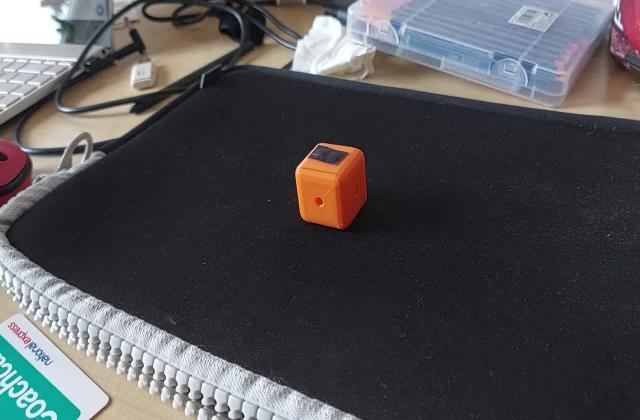black: (310, 146, 350, 166)
cube: (293, 146, 372, 230)
